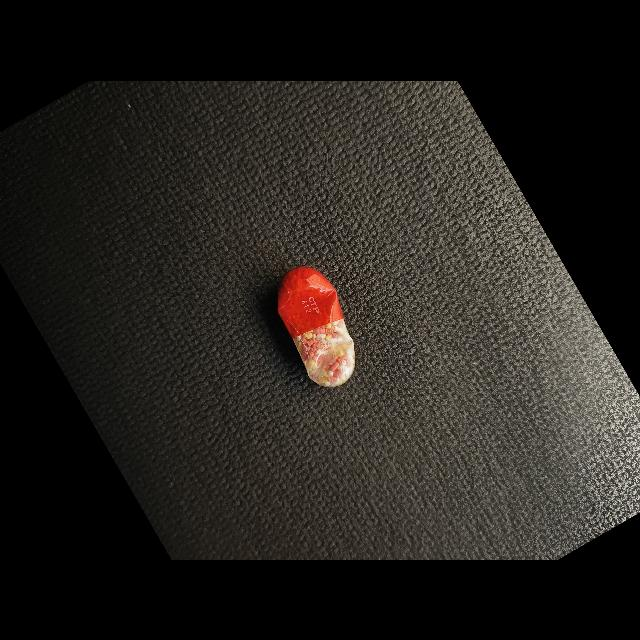Defective Capsule: (277, 266, 355, 387)
